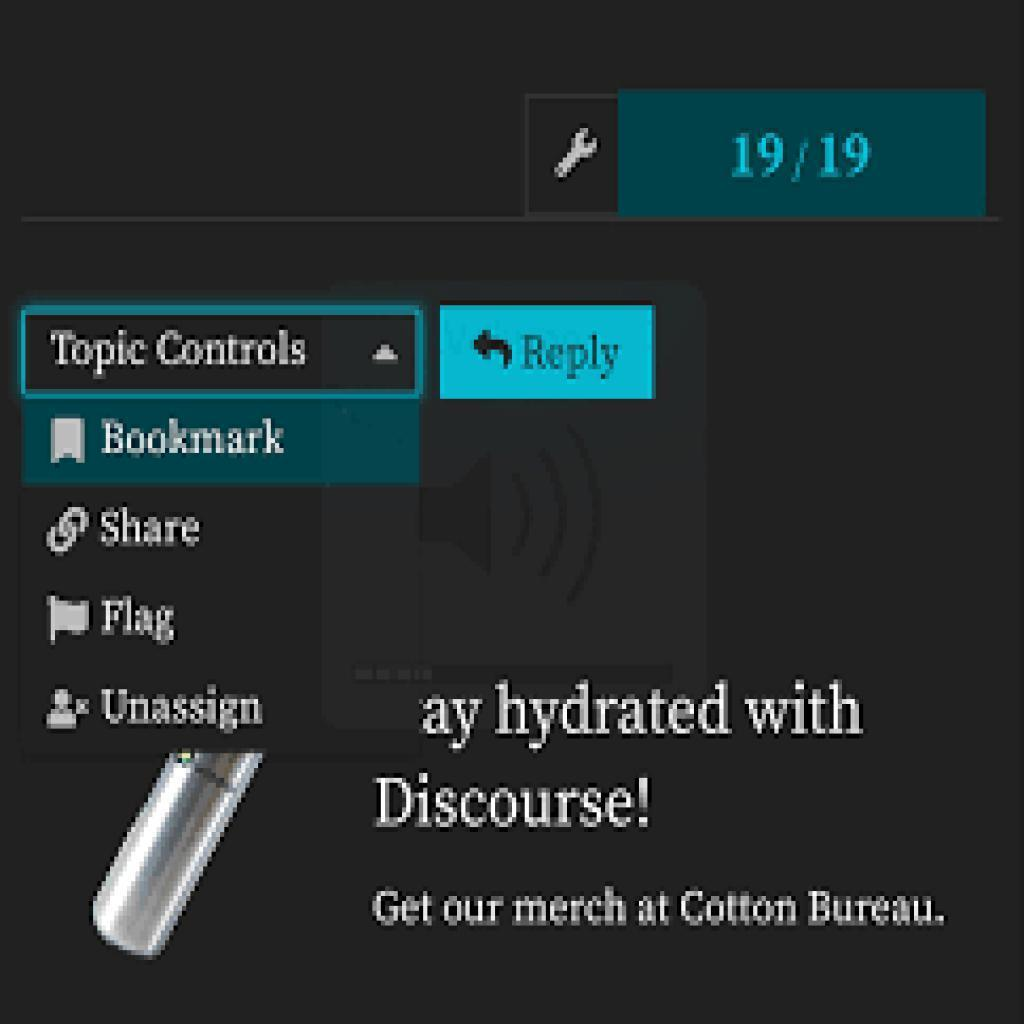button: (621, 92, 990, 222), (442, 310, 658, 396)
dropdown: (30, 311, 420, 395)
icon: (554, 122, 602, 182), (47, 589, 94, 647), (45, 677, 91, 732), (45, 501, 90, 556), (51, 411, 87, 468)
